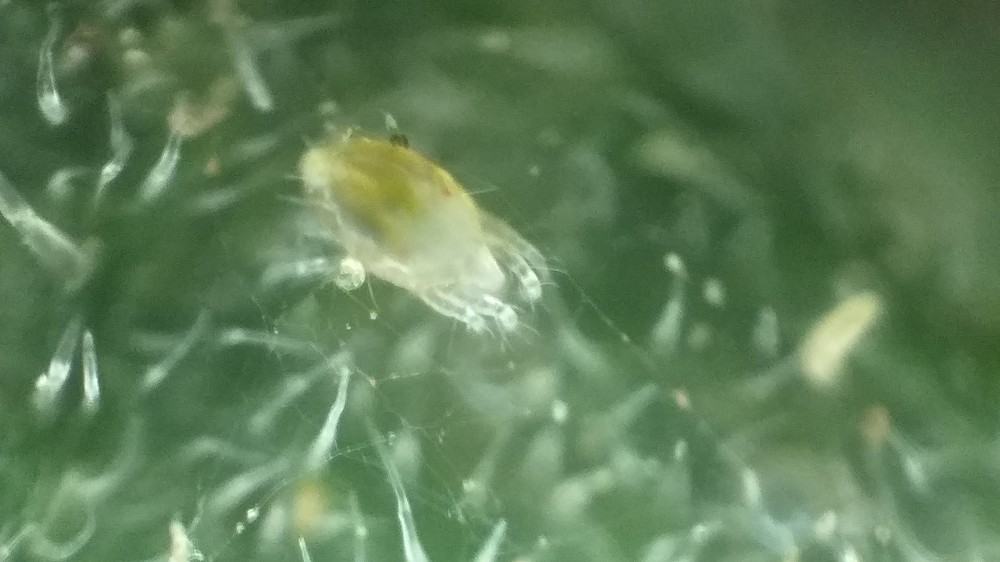Aracnido Rojo: (260, 115, 570, 366)
